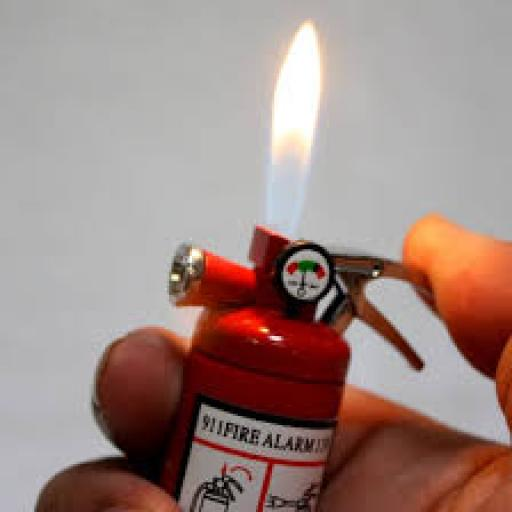fire: (254, 16, 322, 238)
